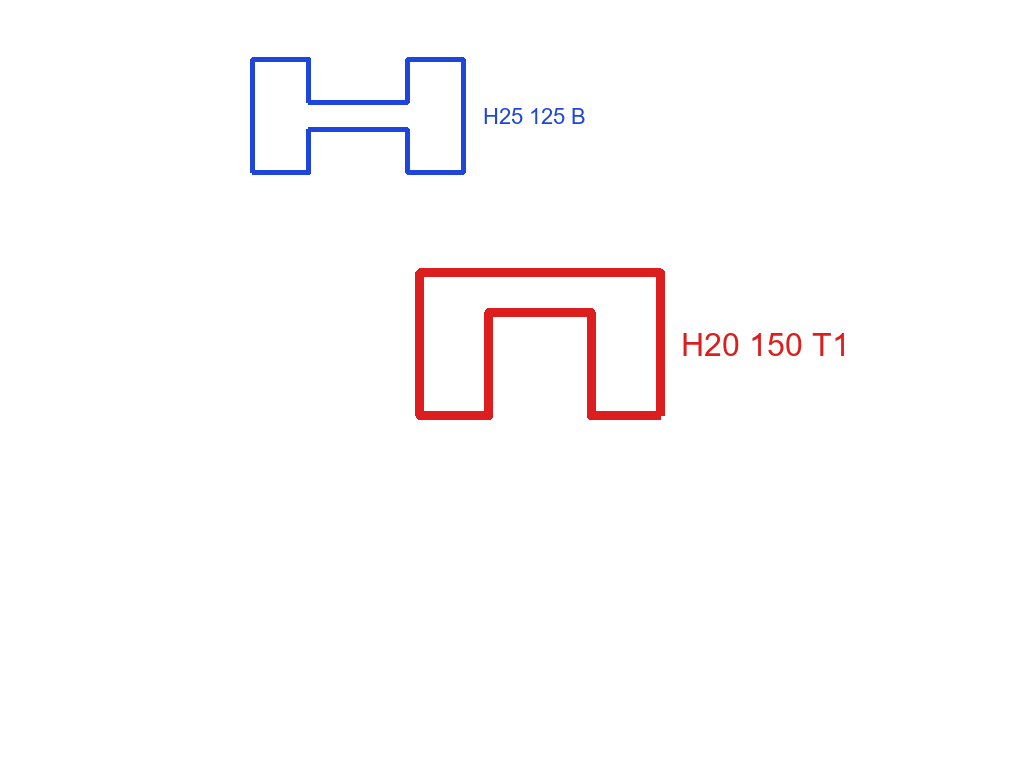shape: (413, 266, 667, 422), (248, 55, 468, 177)
text: (679, 331, 852, 358), (481, 106, 588, 126)
